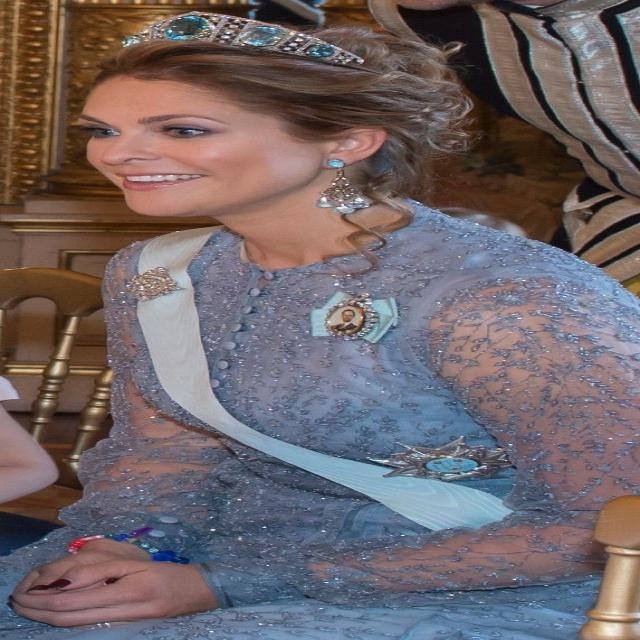Earring: (314, 154, 376, 230)
